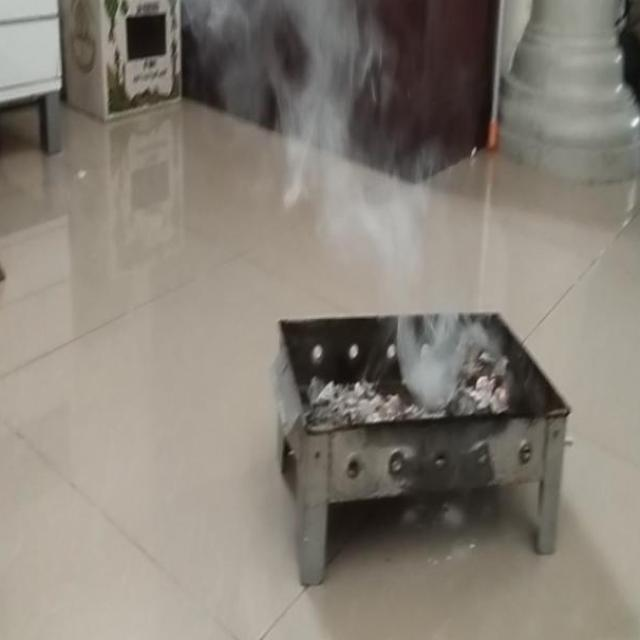fire: (178, 0, 444, 285), (384, 294, 477, 408)
